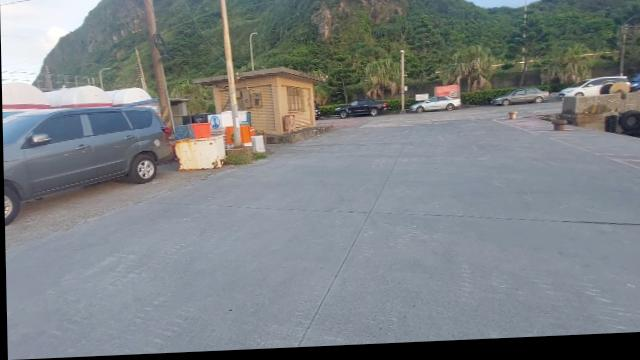pollute: (174, 137, 226, 173), (207, 114, 232, 148), (175, 124, 211, 140), (251, 136, 265, 156), (240, 128, 250, 149), (237, 113, 251, 127), (227, 130, 234, 150)
